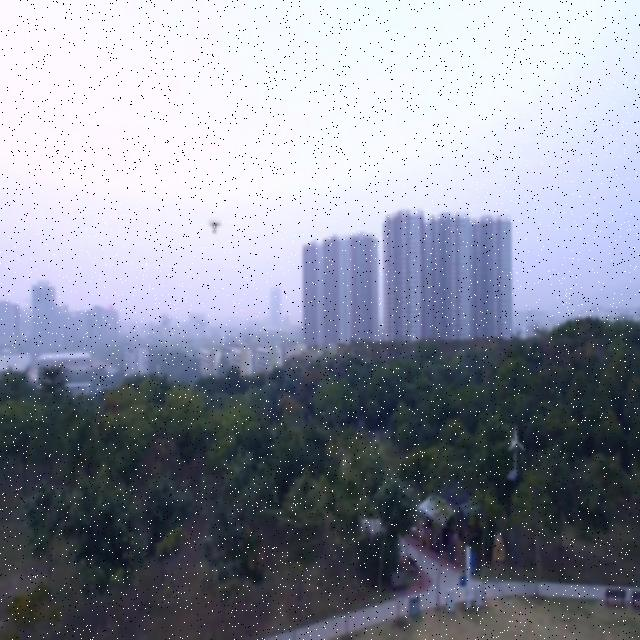UAV: (208, 218, 222, 233)
